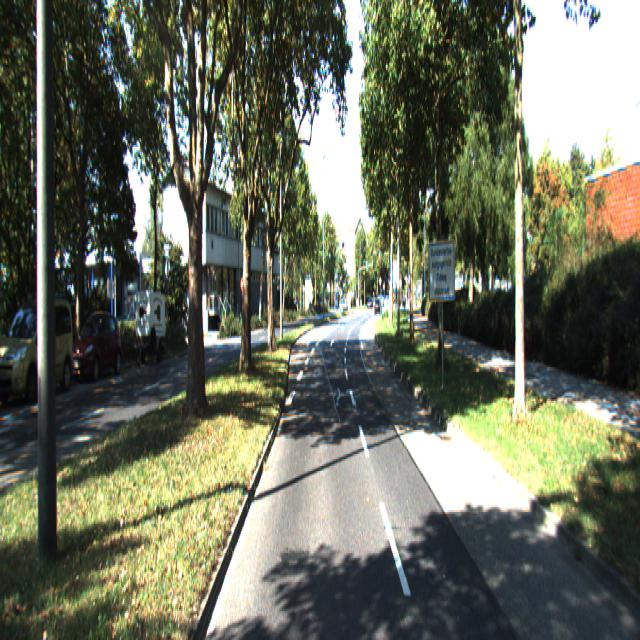Car: (0, 292, 77, 403), (71, 312, 122, 386), (135, 285, 168, 365)
